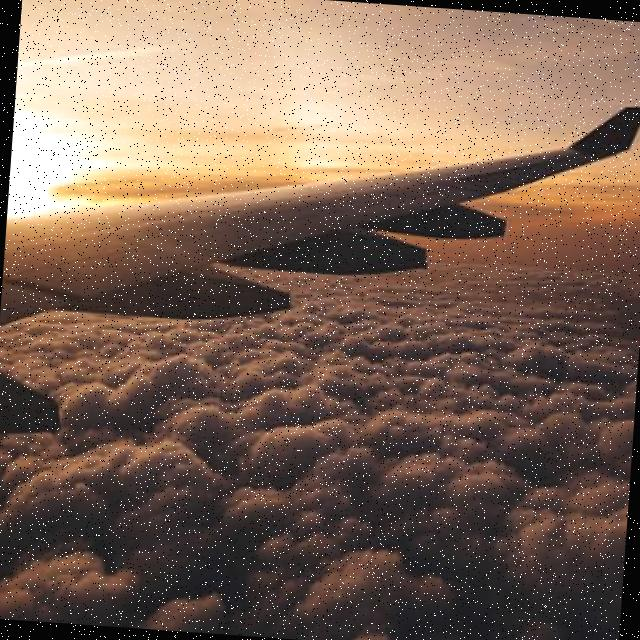Ac: (67, 324, 639, 640)
